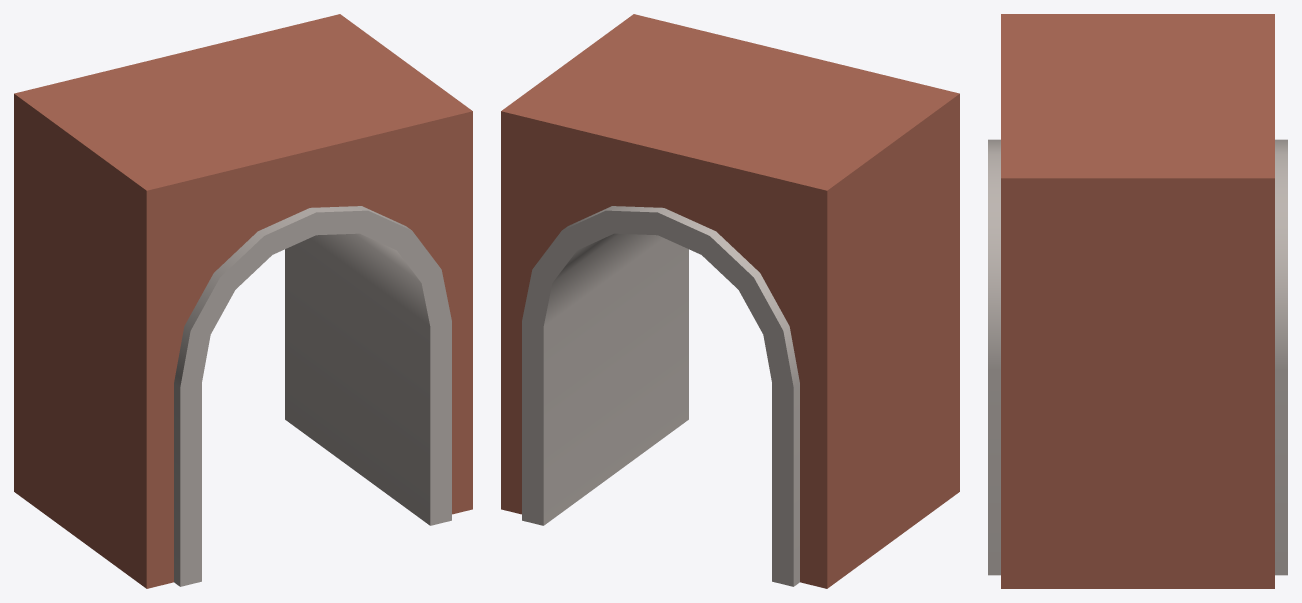
File: tunnel_arch_shape_TEST.fbx
3 renders of one model, left to right at view 1: azimuth 30°, elevation 25°; view 2: azimuth 150°, elevation 25°; view 3: azimuth 270°, elevation 25°, orthographic. The views are drawn at different scales.
Visible parts, largest first — view 1: tunnel_arch_test1; view 2: tunnel_arch_test1; view 3: tunnel_arch_test1.
Boxes of the visible parts, x1,y1,x2,y2 form: tunnel_arch_test1: (14, 14, 472, 588); tunnel_arch_test1: (501, 14, 959, 588); tunnel_arch_test1: (988, 14, 1287, 588).
Bounding box in the file's own units: 300 × 350 × 232.
